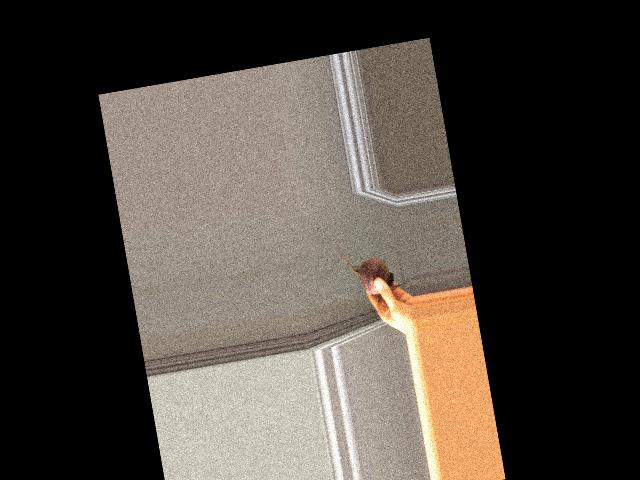beet: (337, 233, 411, 299)
